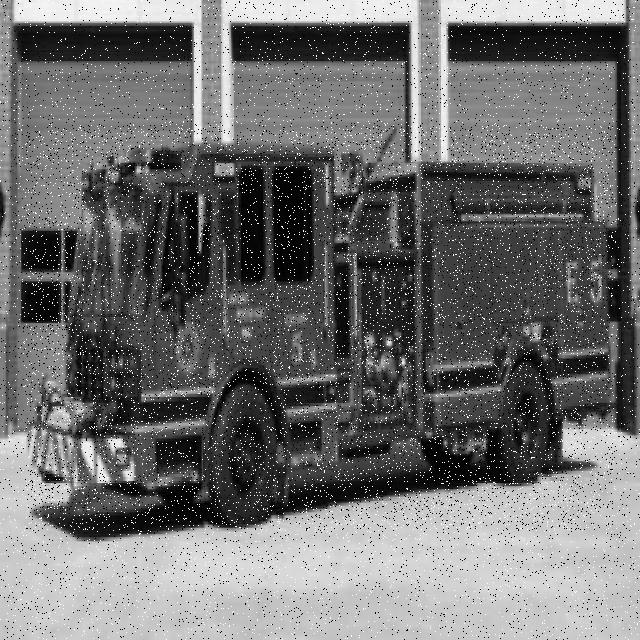Fire Truck: (26, 125, 613, 530)
